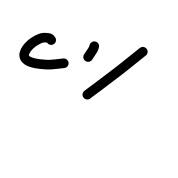o: (13, 21, 73, 81)
